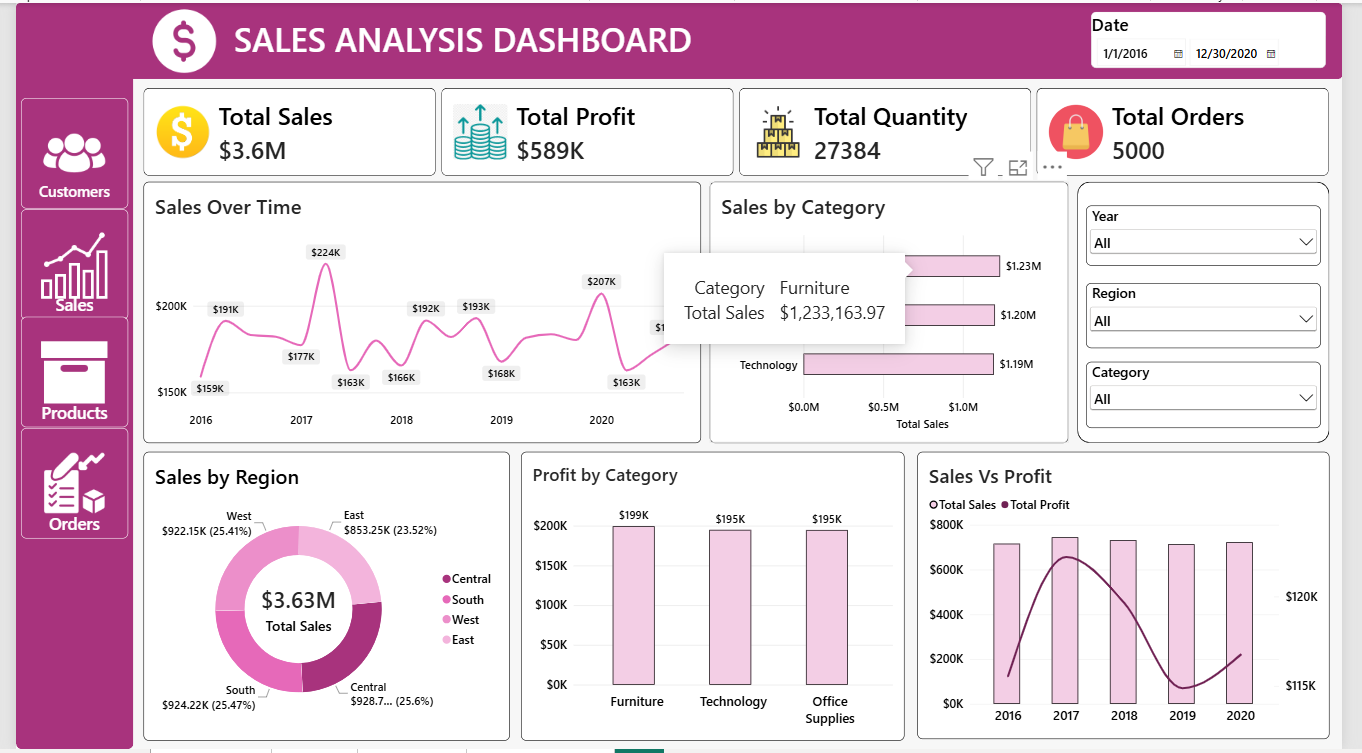

The page's visual inventory and layout, read from the dashboard file:
{"tool":"powerbi","page":{"name":"Sales","canvas":[1920,1080],"ordinal":1},"visuals":[{"type":"shape","box":[0,0,170,1080.4],"z":0},{"type":"shape","box":[0,0,1920.1,110],"z":1000},{"type":"cardVisual","fields":{"Data":["KPI DAX HOME.Total Sales","KPI DAX HOME.Total Profit","KPI DAX HOME.Total Quantity","KPI DAX HOME.Total Orders"]},"box":[184.6,123.1,1717.4,127],"z":2000},{"type":"lineChart","title":"Sales Over Time","fields":{"Category":["calender.Date.Variation.Date Hierarchy.Year","calender.Date.Variation.Date Hierarchy.Quarter","calender.Date.Variation.Date Hierarchy.Month","calender.Date.Variation.Date Hierarchy.Day"],"Y":["KPI DAX HOME.Total Sales"]},"box":[184.6,258.8,807.1,378],"z":3000},{"type":"clusteredBarChart","title":"Sales by Category","fields":{"Category":["Category_Dim.Category"],"Y":["KPI DAX HOME.Total Sales"]},"box":[1004.4,258.8,519.4,378],"z":4000},{"type":"donutChart","title":"Sales by Region","fields":{"Category":["Customer_Dim.Region"],"Y":["KPI DAX HOME.Total Sales"]},"box":[184.6,649.7,530.2,418],"z":5000},{"type":"lineClusteredColumnComboChart","title":"Sales Vs Profit","fields":{"Category":["calender.Date.Variation.Date Hierarchy.Year"],"Y":["KPI DAX HOME.Total Sales"],"Y2":["KPI DAX HOME.Total Profit"]},"box":[1304.8,649.7,597.2,416.2],"z":6000},{"type":"columnChart","title":"Profit by Category","fields":{"Category":["Category_Dim.Category"],"Y":["KPI DAX HOME.Total Profit"]},"box":[731.1,649.7,555.6,418],"z":7000},{"type":"shape","box":[1536.4,258.8,365,378],"z":8000},{"type":"slicer","fields":{"Values":["calender.Date.Variation.Date Hierarchy.Year"]},"box":[1549.1,293.2,340.2,86.9],"z":9000},{"type":"slicer","fields":{"Values":["Customer_Dim.Region"]},"box":[1549.1,405.4,340.2,94.1],"z":10000},{"type":"slicer","fields":{"Values":["Category_Dim.Category"]},"box":[1549.1,519.4,340.2,95.9],"z":11000},{"type":"slicer","title":"Date","fields":{"Values":["calender.Date"]},"box":[1556,12.7,340.2,81.4],"z":12000},{"type":"actionButton","title":"Customer","box":[7.2,137.5,155,160],"z":13000},{"type":"actionButton","title":"Customer","box":[7.2,298.6,155,160],"z":14000},{"type":"actionButton","title":"Customer","box":[7.2,454.2,155,160],"z":15000},{"type":"actionButton","title":"Customer","box":[7.2,615.3,155,160],"z":16000},{"type":"textbox","box":[184.6,0,924.7,110.4],"z":16001},{"type":"image","box":[170.1,0,146.6,110.4],"z":16002}]}

Visuals, with their boxes in screenshot pixels (x1, y1, x2, y2), scaled from the page's 1920x1080 canvas onto the 1362x753 screenshot:
shape: x1=0, y1=0, x2=121, y2=752
shape: x1=0, y1=0, x2=1361, y2=77
cardVisual - KPI DAX HOME.Total Sales x KPI DAX HOME.Total Profit: x1=131, y1=86, x2=1349, y2=174
"Sales Over Time" lineChart: x1=131, y1=180, x2=703, y2=444
"Sales by Category" clusteredBarChart: x1=712, y1=180, x2=1081, y2=444
"Sales by Region" donutChart: x1=131, y1=453, x2=507, y2=744
"Sales Vs Profit" lineClusteredColumnComboChart: x1=926, y1=453, x2=1349, y2=743
"Profit by Category" columnChart: x1=519, y1=453, x2=913, y2=744
shape: x1=1090, y1=180, x2=1349, y2=444
slicer - calender.Date.Variation.Date Hierarchy.Year: x1=1099, y1=204, x2=1340, y2=265
slicer - Customer_Dim.Region: x1=1099, y1=283, x2=1340, y2=348
slicer - Category_Dim.Category: x1=1099, y1=362, x2=1340, y2=429
"Date" slicer: x1=1104, y1=9, x2=1345, y2=66
"Customer" actionButton: x1=5, y1=96, x2=115, y2=207
"Customer" actionButton: x1=5, y1=208, x2=115, y2=320
"Customer" actionButton: x1=5, y1=317, x2=115, y2=428
"Customer" actionButton: x1=5, y1=429, x2=115, y2=541
textbox: x1=131, y1=0, x2=787, y2=77
image: x1=121, y1=0, x2=225, y2=77
